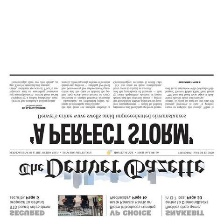news_paper: (5, 73, 217, 222)
